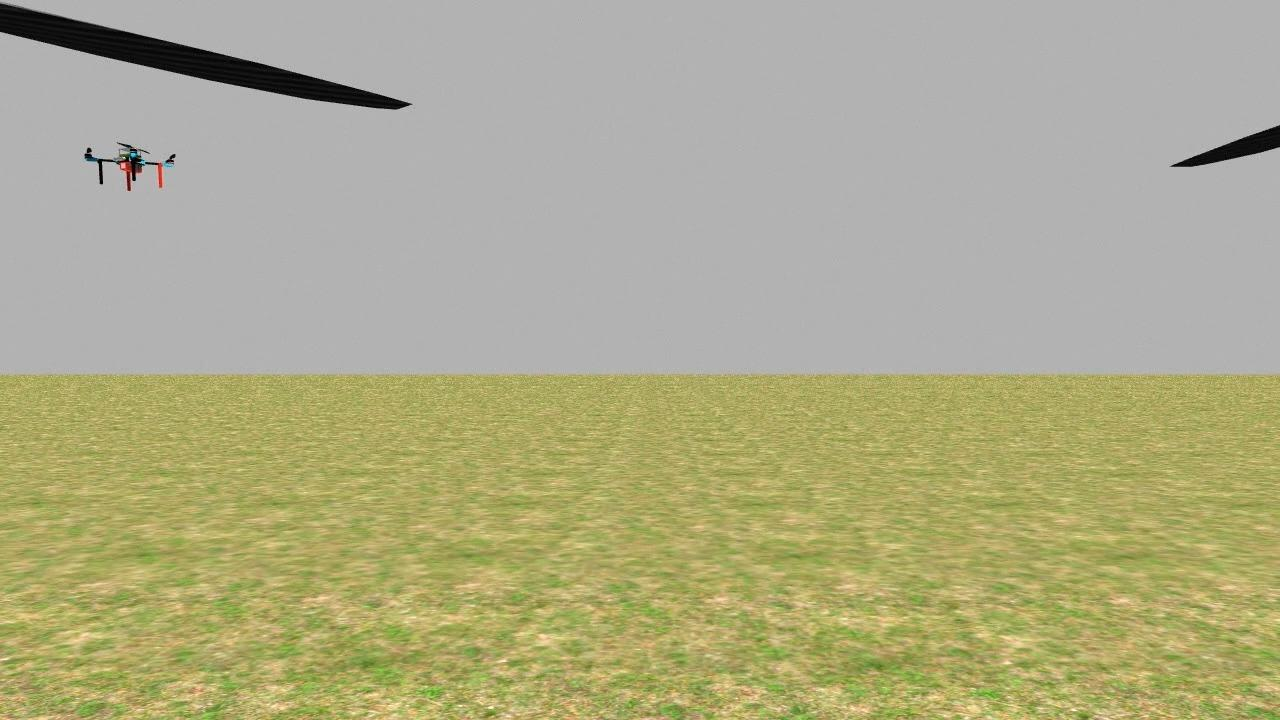UAV: (59, 114, 197, 200)
